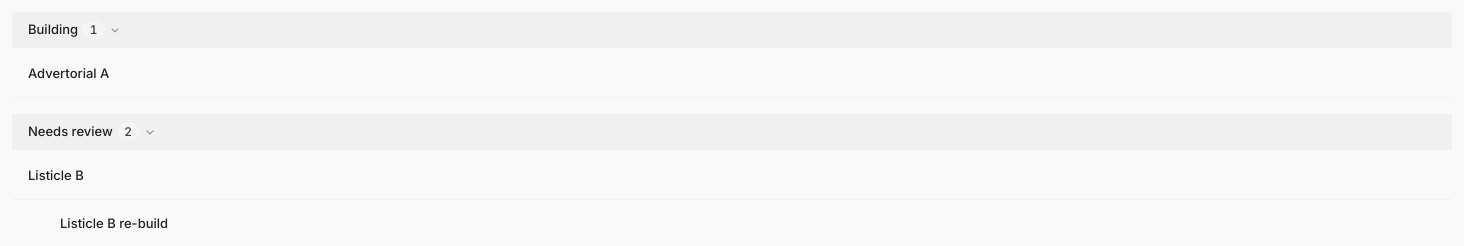
GroupedList › collapses and expands a group from its header
What coordinates should you click on to do the following:
click the button "Building 1"
I would click on:
 (53, 29)
Its box is [12,12,1452,48].
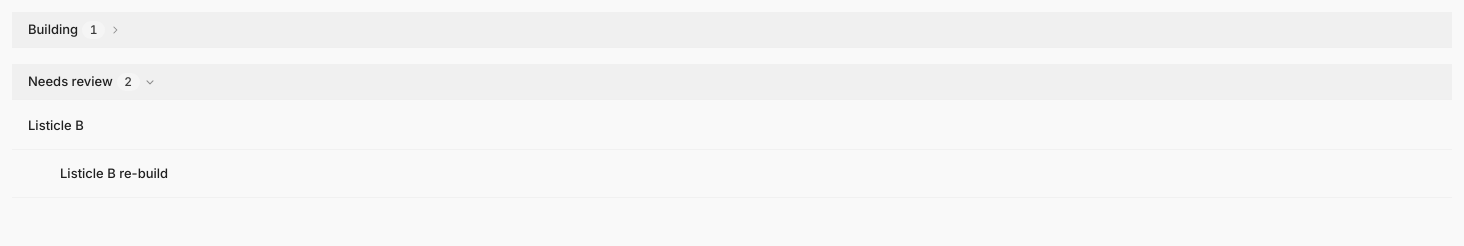
Now the link "Advertorial A" is gone
What coordinates should you click on to do the following:
click the button "Building 1"
I would click on:
 (53, 29)
Its box is [12,12,1452,48].
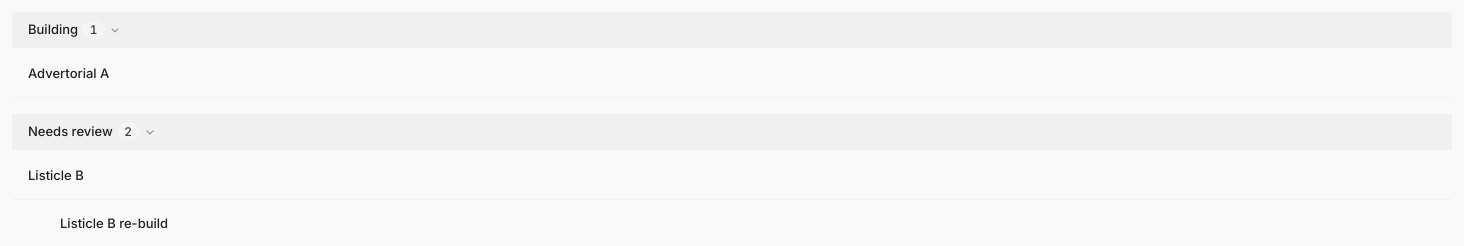
Now the link "Advertorial A" is shown, box [28,65,109,81]
